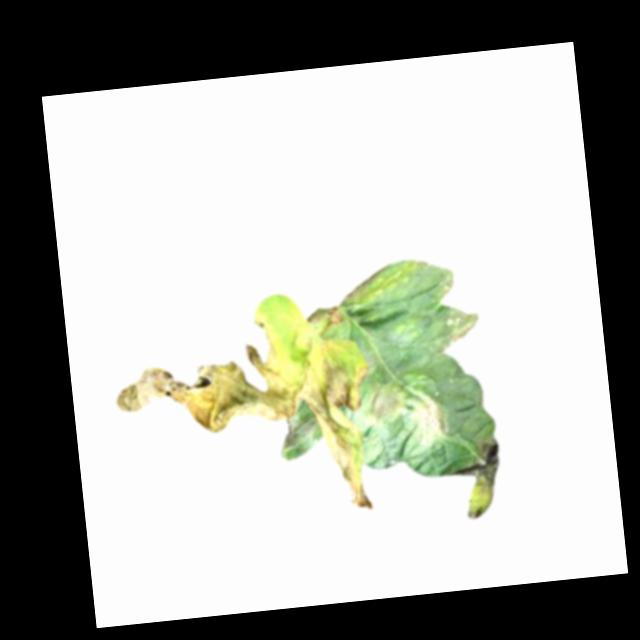Late_blight: (111, 331, 383, 538), (446, 436, 510, 524), (408, 384, 459, 450), (436, 304, 484, 353), (360, 380, 406, 428), (306, 305, 345, 331), (433, 267, 456, 302)
